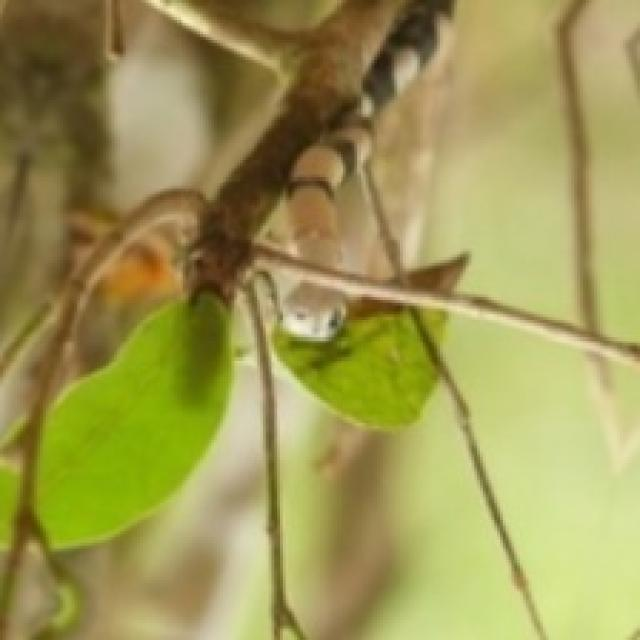king cobra: (286, 0, 451, 266)
